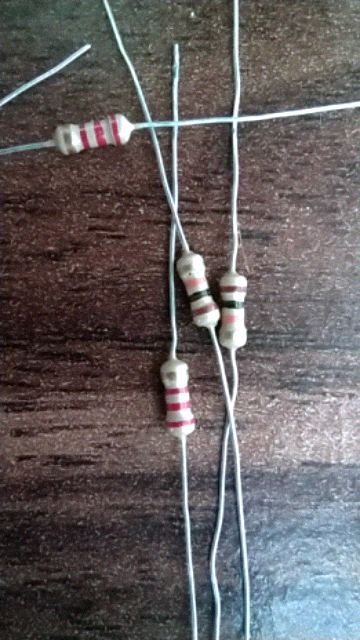resistor: (177, 251, 220, 328), (54, 115, 134, 156), (160, 357, 195, 438), (218, 271, 248, 350)
